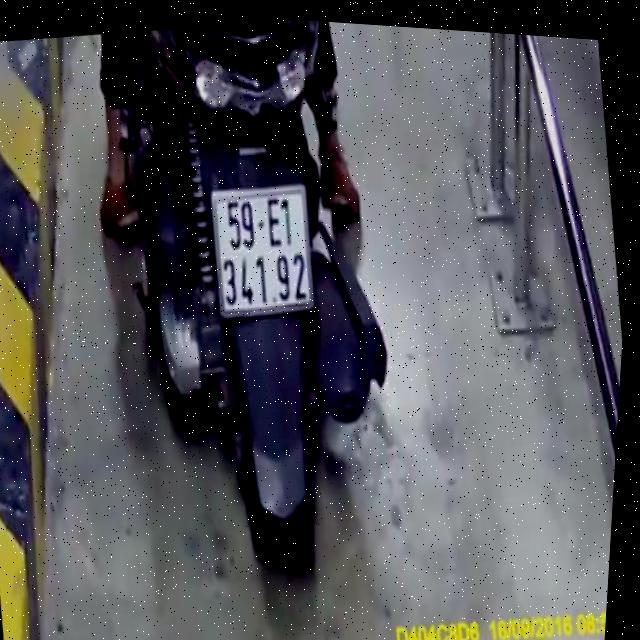motorcycle: (80, 8, 443, 612)
plate: (200, 176, 321, 323)
